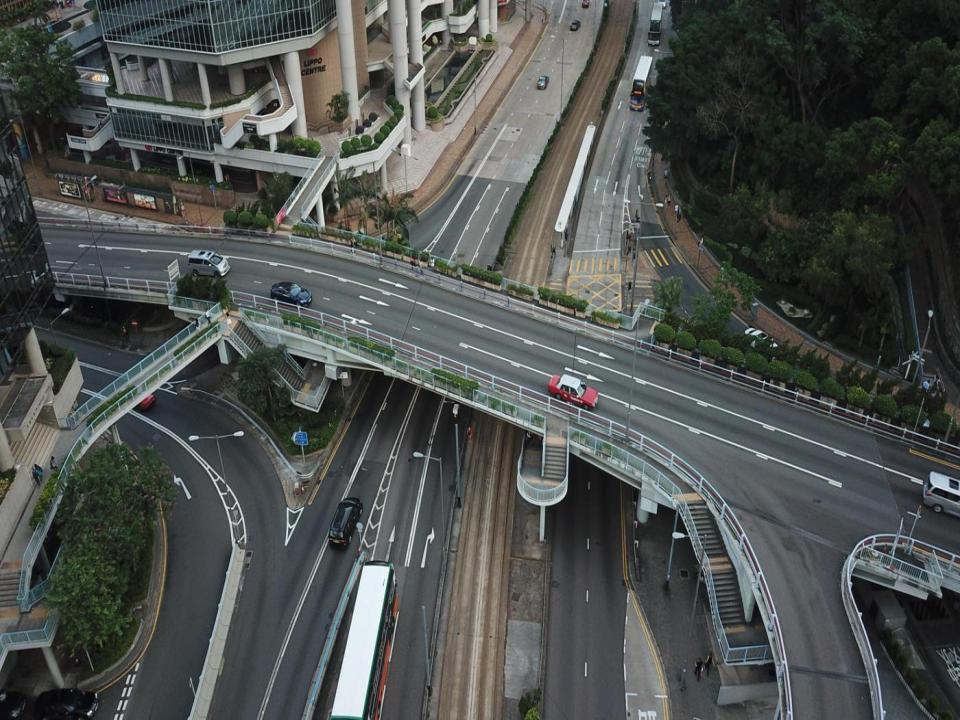bus: (330, 560, 398, 719), (630, 56, 652, 111), (648, 2, 661, 45)
car: (35, 688, 98, 719), (548, 375, 599, 410), (329, 497, 362, 549), (271, 281, 312, 309), (745, 328, 778, 355), (119, 386, 156, 410), (0, 692, 26, 719), (538, 75, 549, 89), (570, 20, 580, 29), (657, 0, 665, 9), (583, 0, 589, 7)
van: (923, 472, 959, 517), (187, 248, 230, 277)
